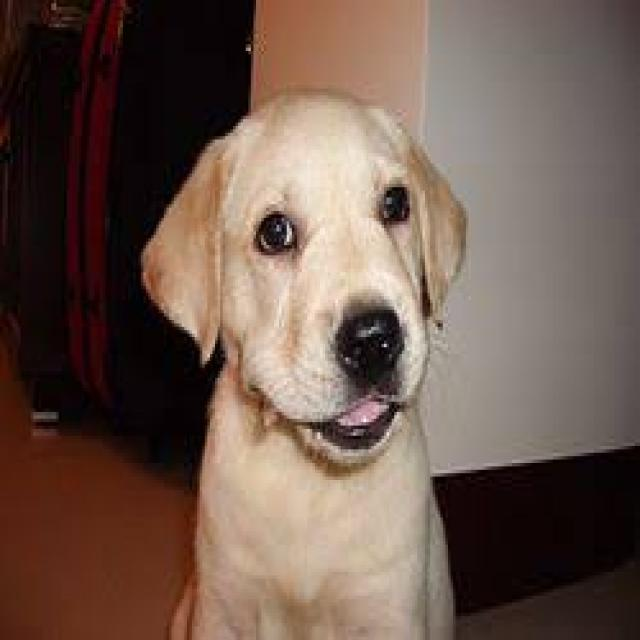dog: (145, 93, 468, 640)
